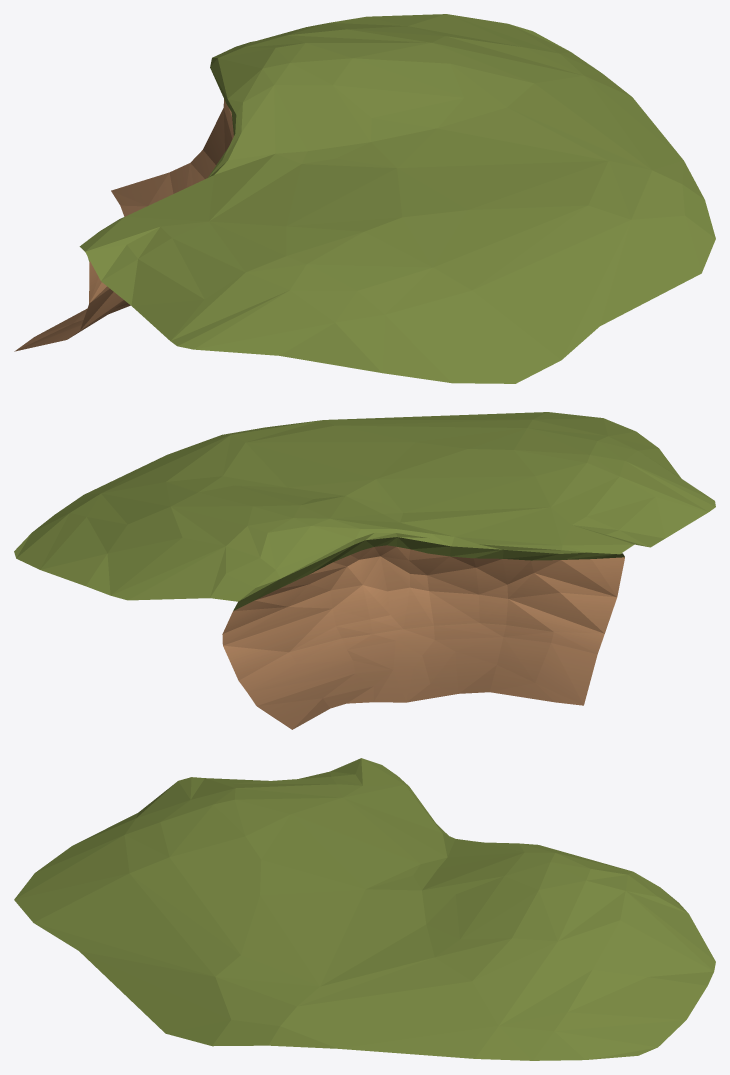
File: Terrain_Cliff_Bend-02.FBX
3 renders of one model, top to bottom at view 1: azimuth 30°, elevation 25°; view 2: azimuth 150°, elevation 25°; view 3: azimuth 270°, elevation 25°, orthographic. The views are drawn at different scales.
Parts seen in each view (by area): view 1: Terrain_Cliff_Bend-02; view 2: Terrain_Cliff_Bend-02; view 3: Terrain_Cliff_Bend-02.
Part boxes in pixels (x1=…): Terrain_Cliff_Bend-02: x1=14, y1=14, x2=715, y2=383; Terrain_Cliff_Bend-02: x1=14, y1=412, x2=715, y2=729; Terrain_Cliff_Bend-02: x1=14, y1=758, x2=715, y2=1060.
Size of the model in its own units: 4715 by 1327 by 5233.
Materials: 1 (1 with a texture image).
